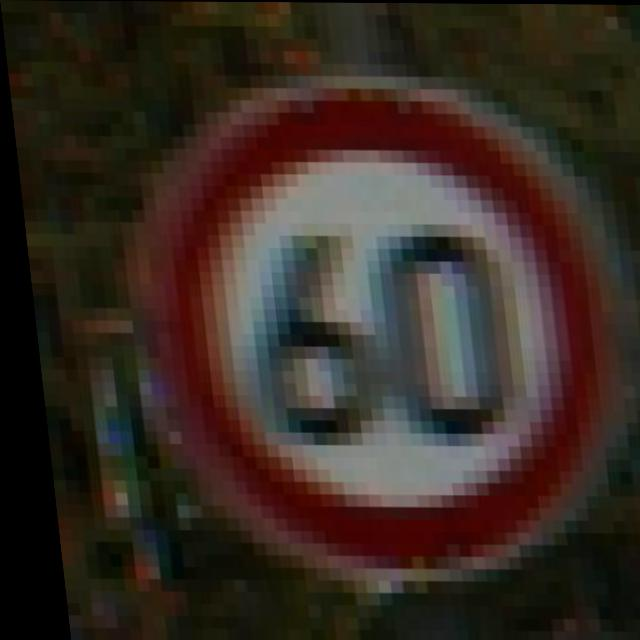limit60: (99, 73, 640, 595)
